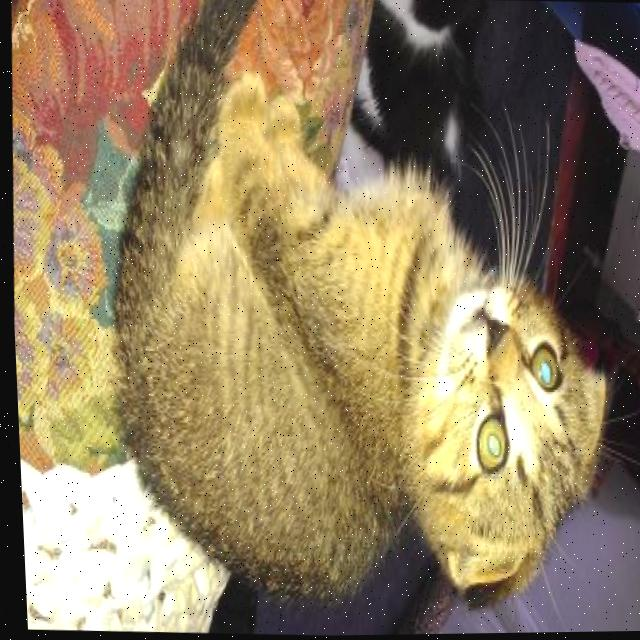Scottish Fold: (87, 0, 629, 629)
